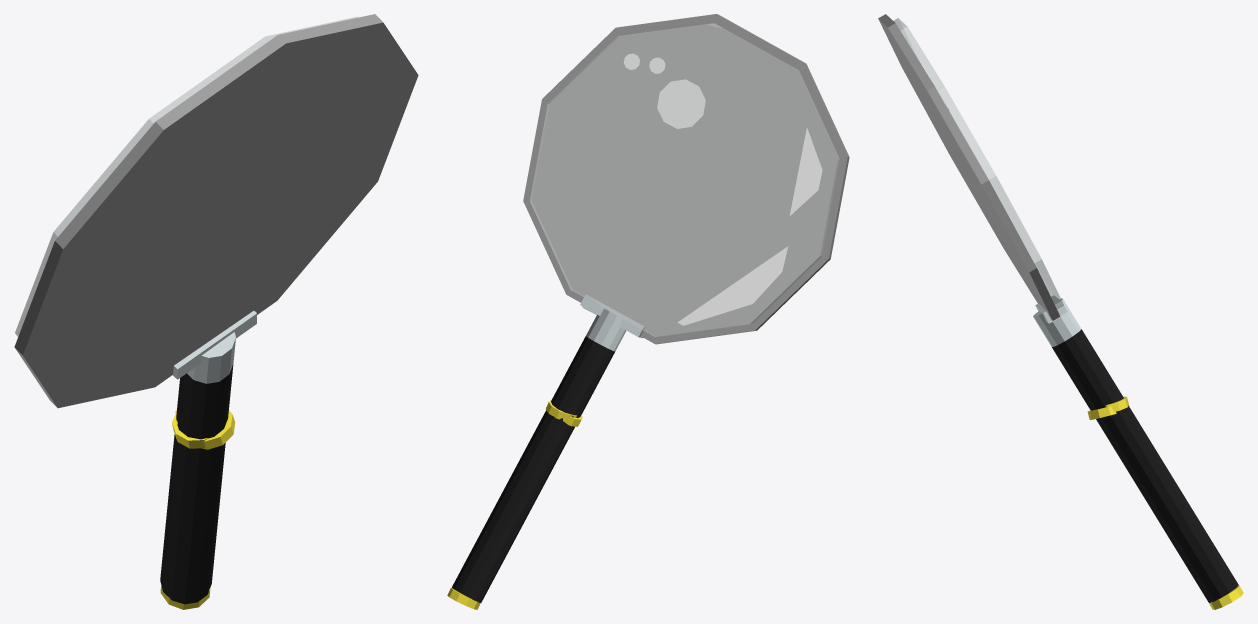
File: Magnifying Glass by Akil A. Antoine - 5JVDqcBclY6.glb
3 renders of one model, left to right at view 1: azimuth 30°, elevation 25°; view 2: azimuth 150°, elevation 25°; view 3: azimuth 270°, elevation 25°, orthographic. The views are drawn at different scales.
Visible parts, largest first — view 1: group21357947, group1250560325, group1806721979, group1252801083, group416421922, group1679883838, group950181917, group2033693128, group638856929, group371393024, group1143441881, group1403427357; view 2: group21357947, group1250560325, group1806721979, group907679119, group2033693128, group416421922, group950181917, group371393024, group1252801083, group638856929, group1403427357, group1861614639 (+1 smaller); view 3: group21357947, group1250560325, group1806721979, group950181917, group2033693128, group416421922, group371393024, group1252801083, group638856929, group1403427357, group1679883838.
Part boxes in pixels (box(x1,y1,x2,y2)): group21357947: box(14, 14, 418, 408); group1250560325: box(15, 16, 358, 336); group1806721979: box(160, 526, 215, 604); group1252801083: box(166, 490, 220, 539); group416421922: box(169, 464, 223, 513); group1679883838: box(164, 516, 217, 565); group950181917: box(176, 387, 230, 435); group2033693128: box(171, 438, 225, 487); group638856929: box(187, 332, 235, 383); group371393024: box(179, 364, 233, 409); group1143441881: box(173, 311, 256, 379); group1403427357: box(174, 412, 228, 461); group21357947: box(523, 14, 849, 344); group1250560325: box(530, 23, 839, 336); group1806721979: box(452, 524, 508, 602); group907679119: box(657, 79, 705, 128); group2033693128: box(522, 425, 567, 469); group416421922: box(507, 454, 551, 499); group950181917: box(554, 366, 599, 410); group371393024: box(570, 336, 614, 381); group1252801083: box(491, 484, 535, 528); group638856929: box(586, 308, 625, 351); group1403427357: box(538, 395, 583, 440); group1861614639: box(580, 294, 645, 337); group21357947: box(878, 14, 1060, 320); group1250560325: box(893, 18, 1063, 308); group1806721979: box(1175, 521, 1238, 602); group950181917: box(1070, 359, 1118, 407); group2033693128: box(1107, 419, 1155, 467); group416421922: box(1125, 449, 1173, 497); group371393024: box(1052, 329, 1099, 377); group1252801083: box(1144, 480, 1192, 527); group638856929: box(1033, 298, 1081, 346); group1403427357: box(1088, 389, 1136, 437); group1679883838: box(1162, 510, 1199, 557).
Bounding box in the file's own units: 0.1882 × 0.3321 × 0.2053.
